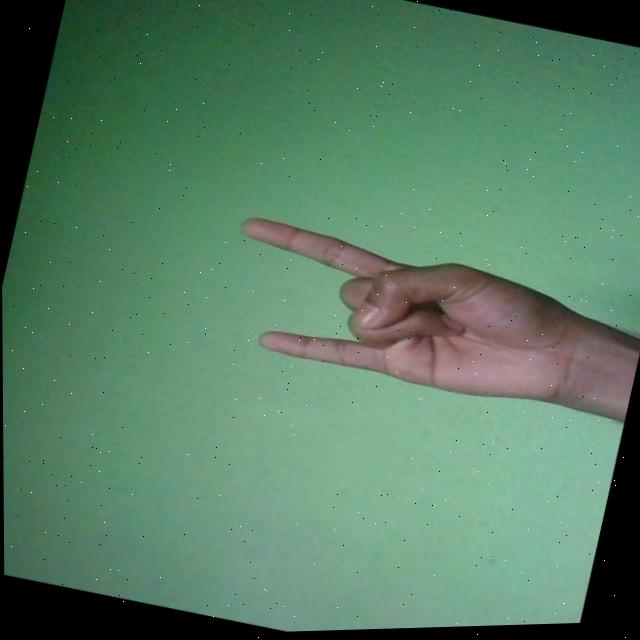Rock On: (212, 208, 598, 427)
